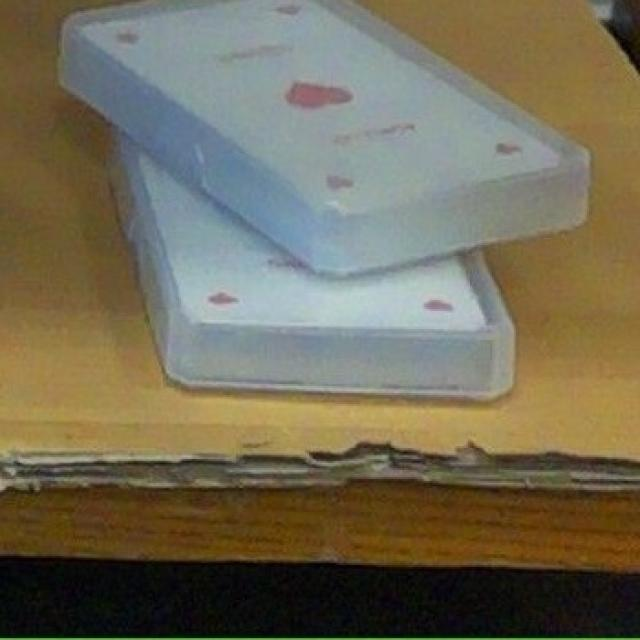Jasskarte: (60, 0, 589, 274), (112, 137, 512, 399)
